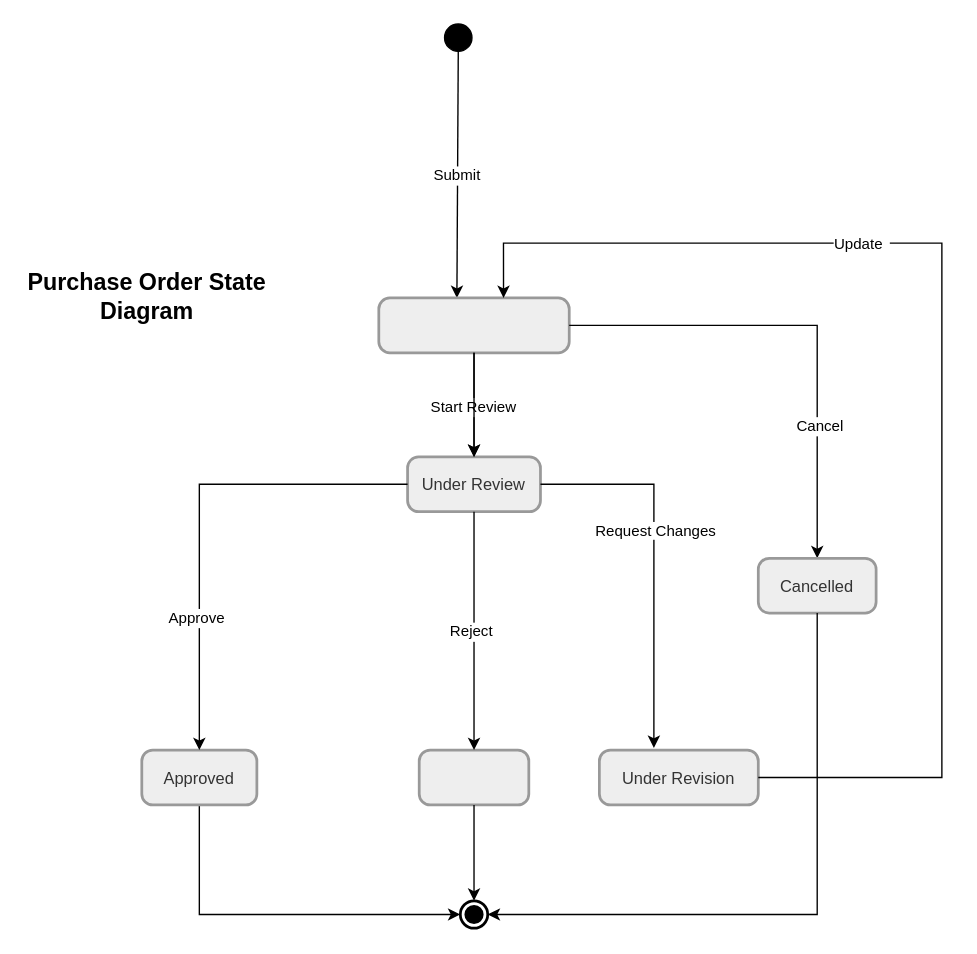
This 977x954 diagram has some shape labels left out. The shapes that lost their labels are listed below. From the top down, each one's centre as x and y in pixels, then its label:
At (473,324): "Pending".
At (473,777): "Rejected".
